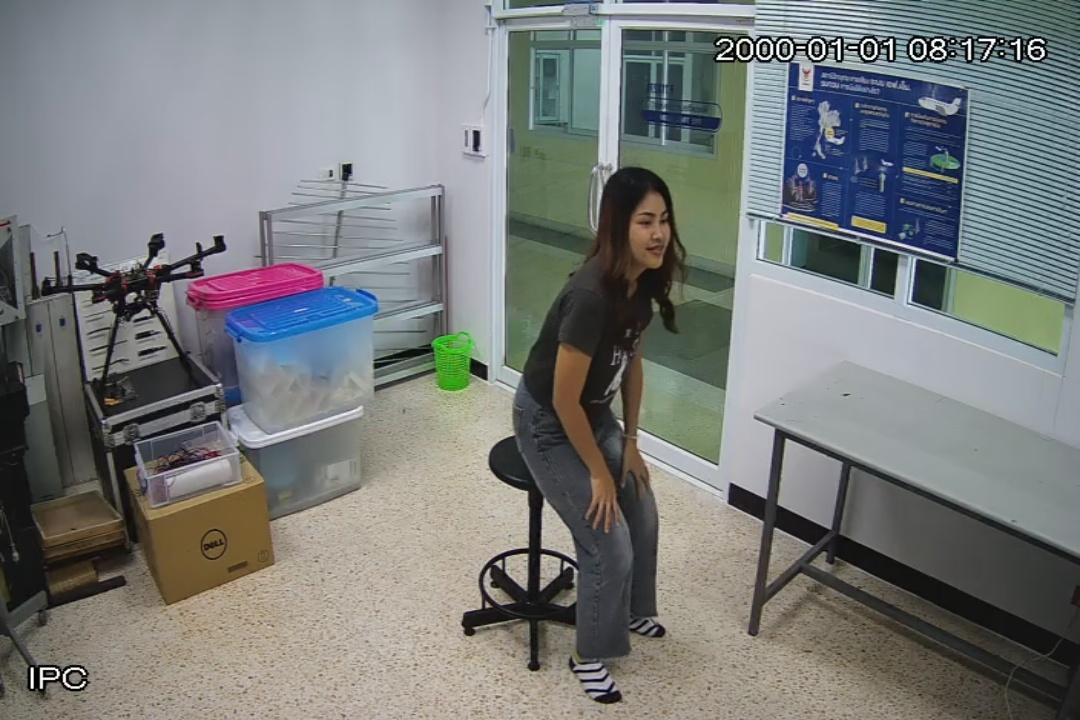normal: (508, 162, 678, 708)
